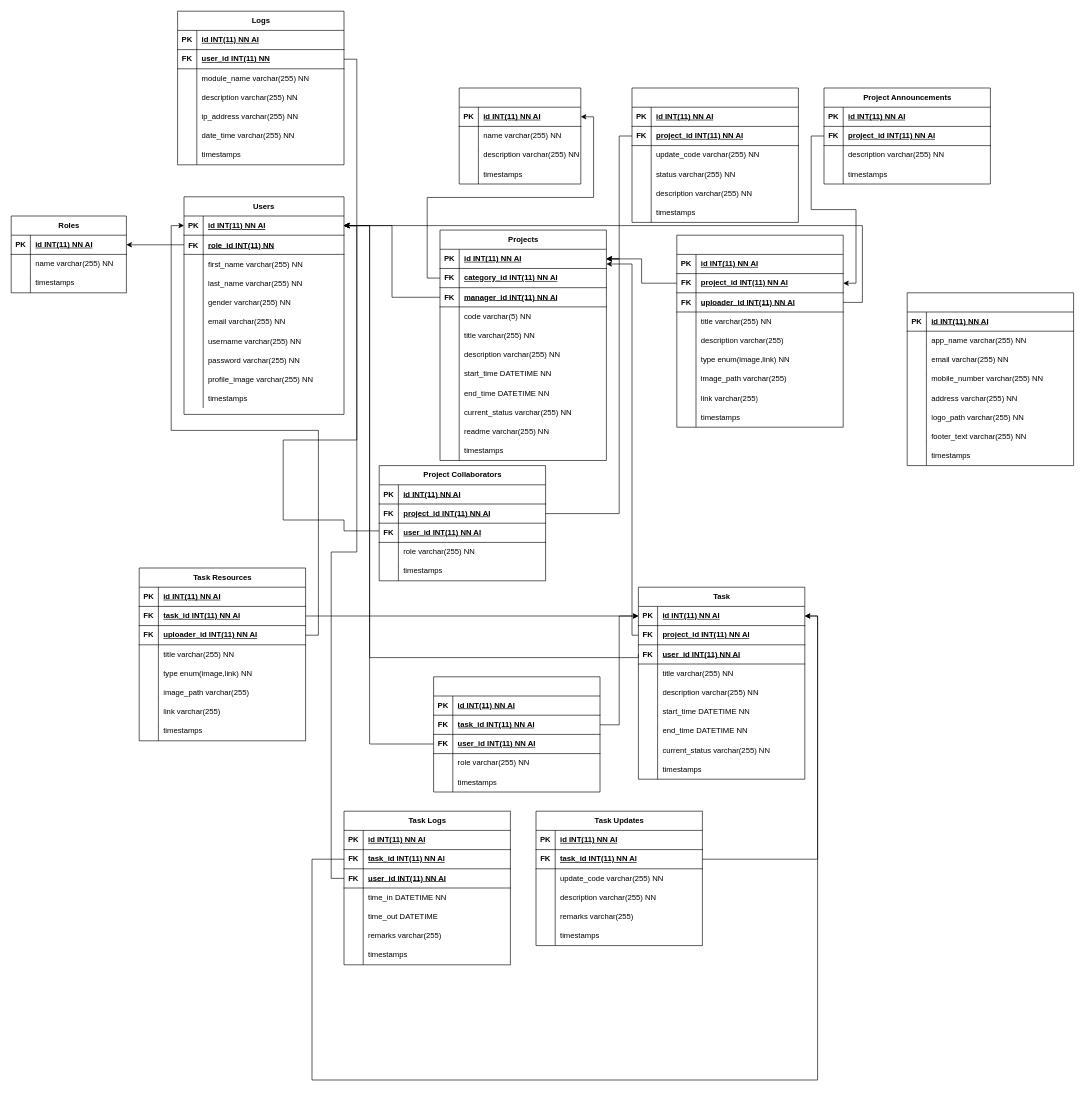
This 1085x1096 diagram has some shape labels left out. Each missing label, with the box of its shape:
Project Categories: (459, 87, 581, 184)
Project Resources: (676, 235, 843, 427)
Project Updates: (631, 87, 798, 222)
System Settings: (907, 292, 1074, 466)
Task Collaborators: (433, 676, 600, 792)
